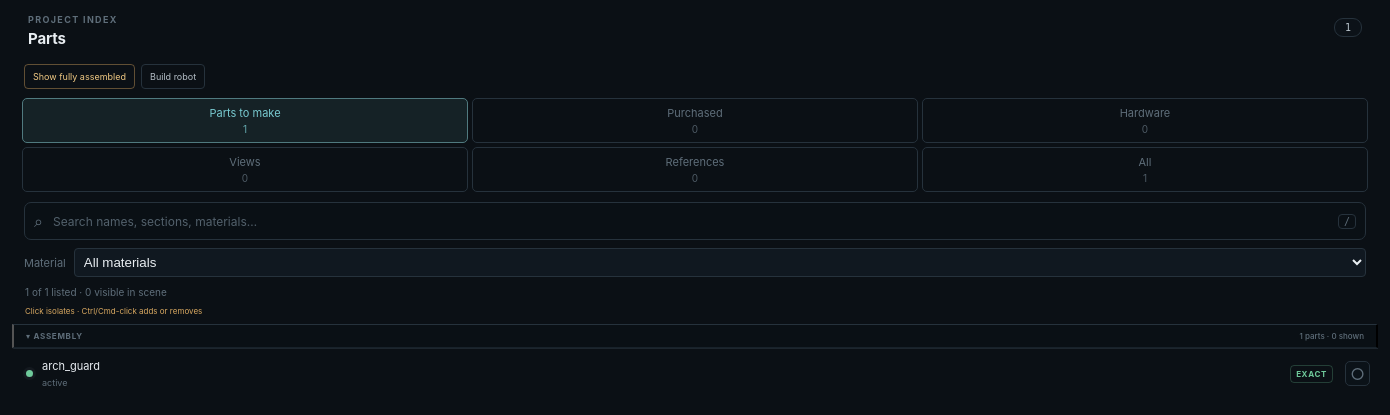
it: PartInventoryDock refresh › deletes from the right-click menu and refreshes inventory without selecting the row
Right-click the option "arch_guard active Exact" at (71, 366), box [14,349,1345,398]
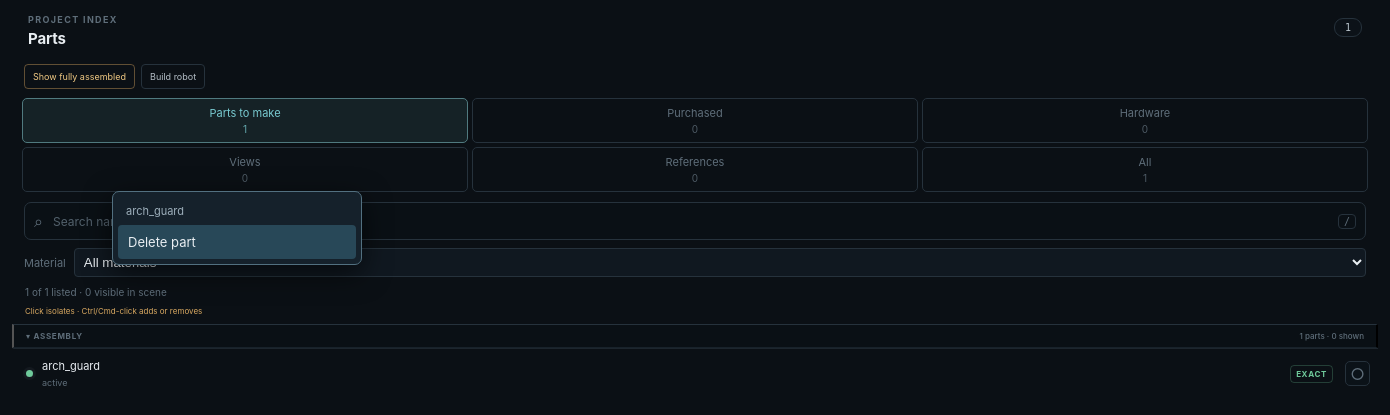
Click the menu item "Delete part" at (237, 242), box [118,225,356,259]
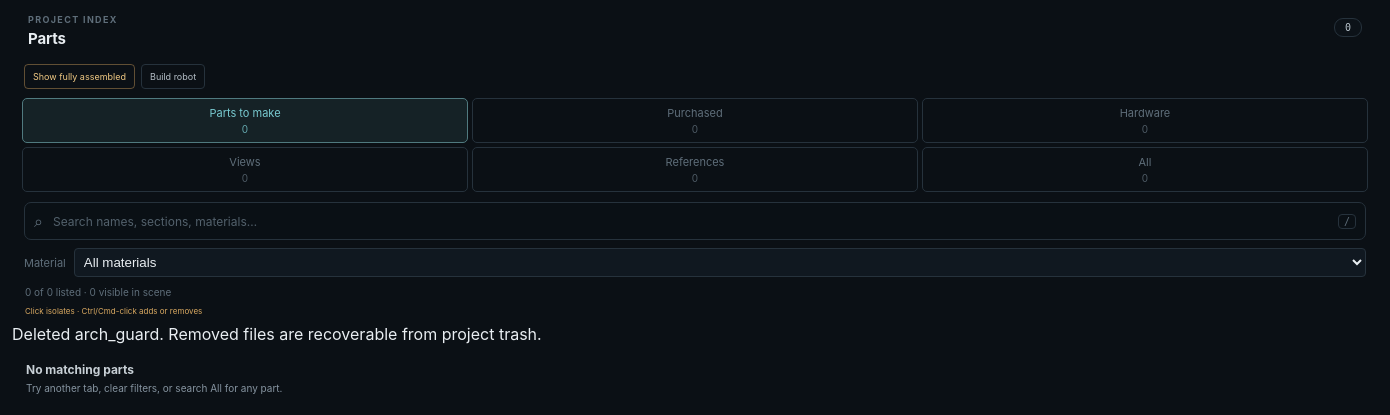
Expected: the text "No matching parts" is shown, [26,362,134,377]
Expected: the menu is gone
